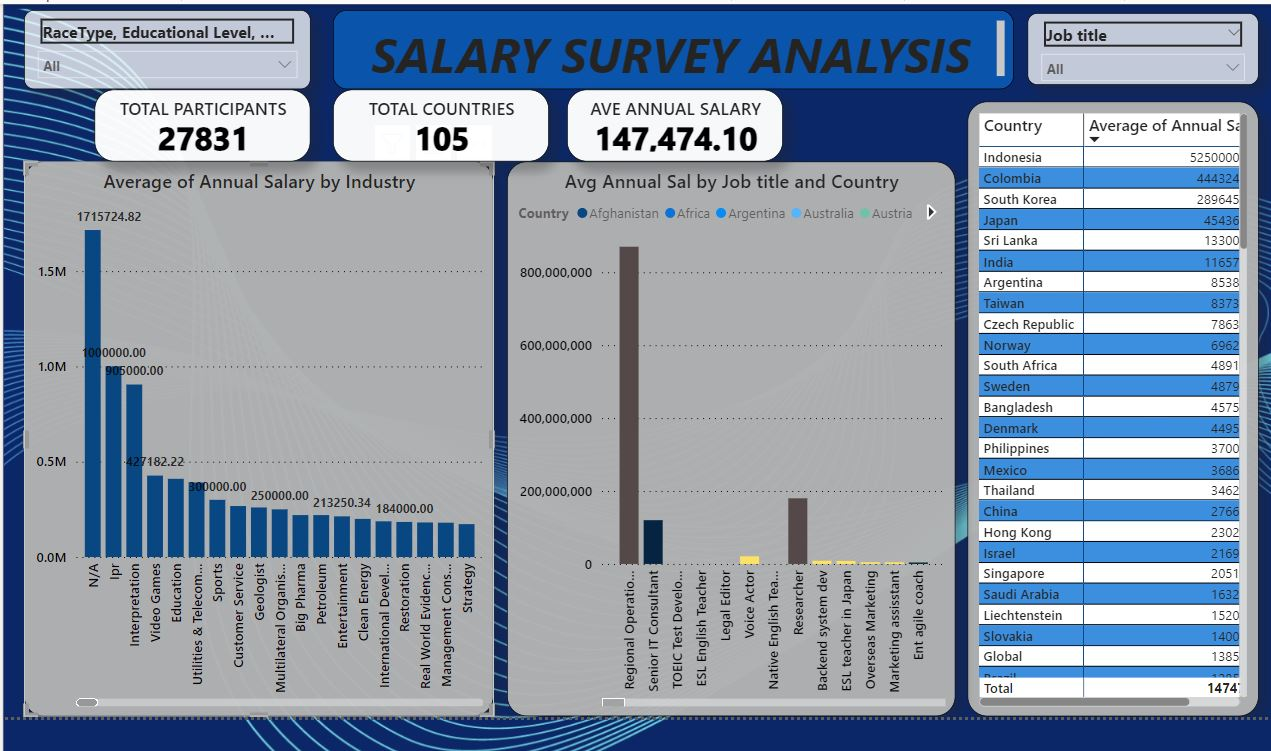

Layout of this report page (visuals, bound fields, positions):
{"tool":"powerbi","page":{"name":"Page 1","canvas":[1280,720],"ordinal":0},"visuals":[{"type":"clusteredColumnChart","fields":{"Category":["Table1_28.Industry"],"Y":["Avg(Table1_28.Annual Salary)"]},"box":[21.2,159,473.9,560.3],"z":0},{"type":"textbox","box":[333.1,6.1,687.4,80.3],"z":1000},{"type":"slicer","fields":{"Values":["Table1_28.RaceType","Table1_28.Educational Level","Table1_28.Gender"]},"box":[21.2,6.1,289.4,80.3],"z":2000},{"type":"pivotTable","fields":{"Rows":["Table1_28.Country"],"Values":["Avg(Table1_28.Annual Salary)"]},"box":[973.6,98.4,293.8,620.8],"z":4000},{"type":"columnChart","fields":{"Category":["Table1_28.Job title"],"Y":["Table1_28.Avg Annual Sal"],"Series":["Table1_28.Country"]},"box":[508.8,159,452.7,560.3],"z":5000},{"type":"card","title":"TOTAL COUNTRIES","fields":{"Values":["Count(Table1_28.Country)"]},"box":[333.3,86.4,218.2,72.7],"z":6000},{"type":"card","title":"TOTAL PARTICIPANTS","fields":{"Values":["Table1_28.Row Count"]},"box":[92.4,86.4,218.2,72.7],"z":7000},{"type":"card","title":"AVE ANNUAL SALARY","fields":{"Values":["Table1_28.Avg Annual Sal"]},"box":[569.7,86.4,218.2,72.7],"z":8000},{"type":"slicer","fields":{"Values":["Table1_28.Job title"]},"box":[1034.2,9.1,233.2,72.7],"z":8001}]}

Visuals, with their boxes on the page's 1280x720 design canvas (x1, y1, x2, y2). These are canvas units, not pixel positions in the 1271x751 screenshot, which may show the page scaled, cropped or inside an application window:
clusteredColumnChart - Table1_28.Industry x Avg(Table1_28.Annual Salary): pyautogui.locateOnScreen(21, 159, 495, 719)
textbox: pyautogui.locateOnScreen(333, 6, 1020, 86)
slicer - Table1_28.RaceType x Table1_28.Educational Level: pyautogui.locateOnScreen(21, 6, 311, 86)
pivotTable - Table1_28.Country x Avg(Table1_28.Annual Salary): pyautogui.locateOnScreen(974, 98, 1267, 719)
columnChart - Table1_28.Job title x Table1_28.Avg Annual Sal: pyautogui.locateOnScreen(509, 159, 962, 719)
"TOTAL COUNTRIES" card: pyautogui.locateOnScreen(333, 86, 552, 159)
"TOTAL PARTICIPANTS" card: pyautogui.locateOnScreen(92, 86, 311, 159)
"AVE ANNUAL SALARY" card: pyautogui.locateOnScreen(570, 86, 788, 159)
slicer - Table1_28.Job title: pyautogui.locateOnScreen(1034, 9, 1267, 82)
